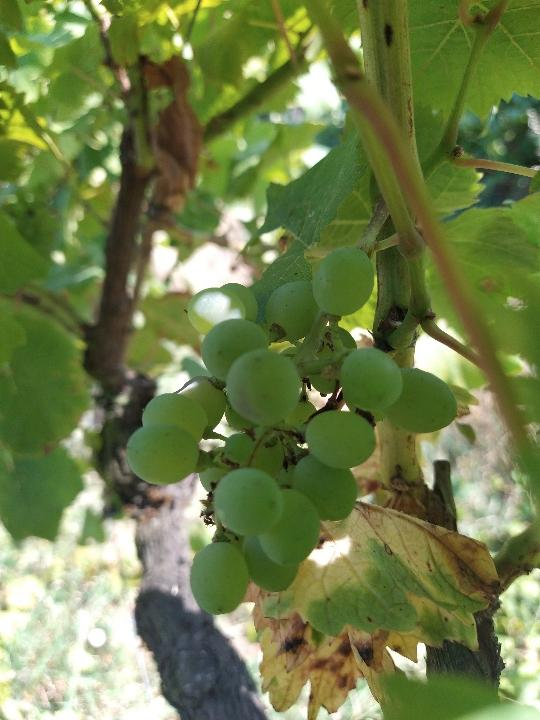grape: (122, 245, 458, 617)
